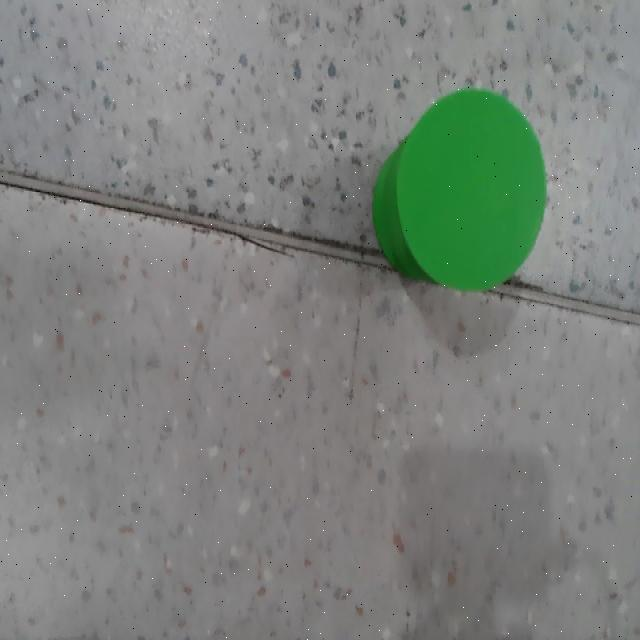g: (397, 90, 546, 290)
